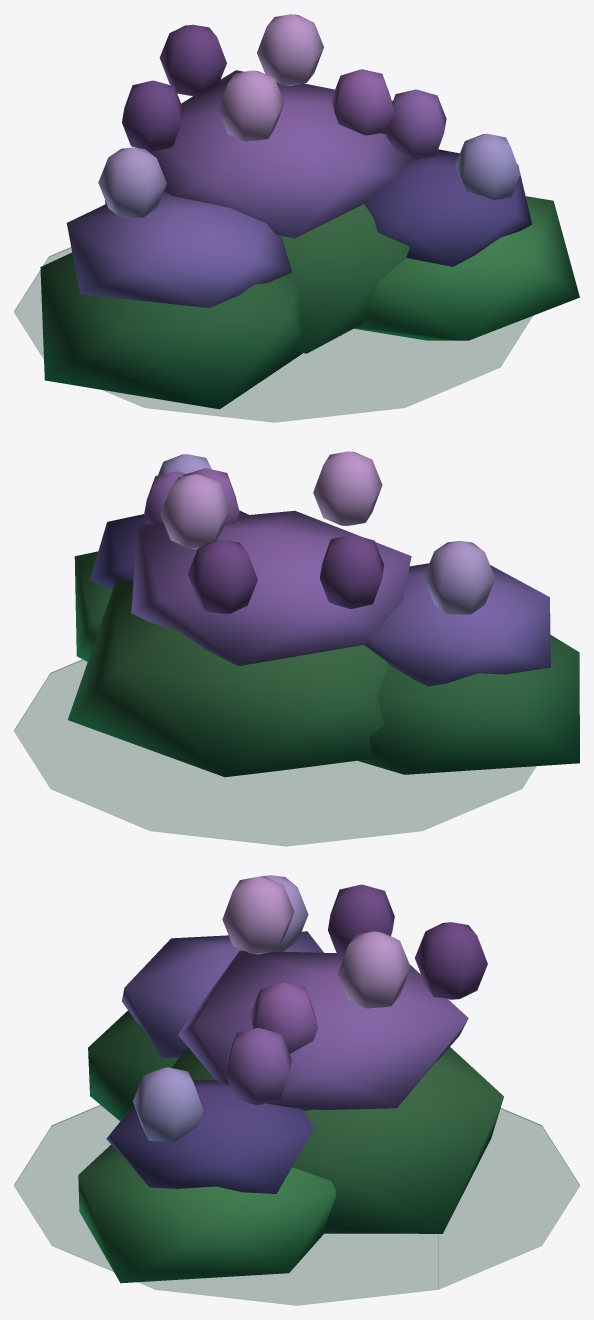
File: heather.glb
3 renders of one model, top to bottom at view 1: azimuth 30°, elevation 25°; view 2: azimuth 150°, elevation 25°; view 3: azimuth 270°, elevation 25°, orthographic. The views are drawn at different scales.
Visible parts, largest first — view 1: heather; view 2: heather; view 3: heather.
Part boxes in pixels (left/top/right/bottom): heather: left=14, top=14, right=579, bottom=422; heather: left=14, top=451, right=579, bottom=846; heather: left=14, top=875, right=579, bottom=1305.
Bounding box in the file's own units: 0.967 × 0.5528 × 0.88.
